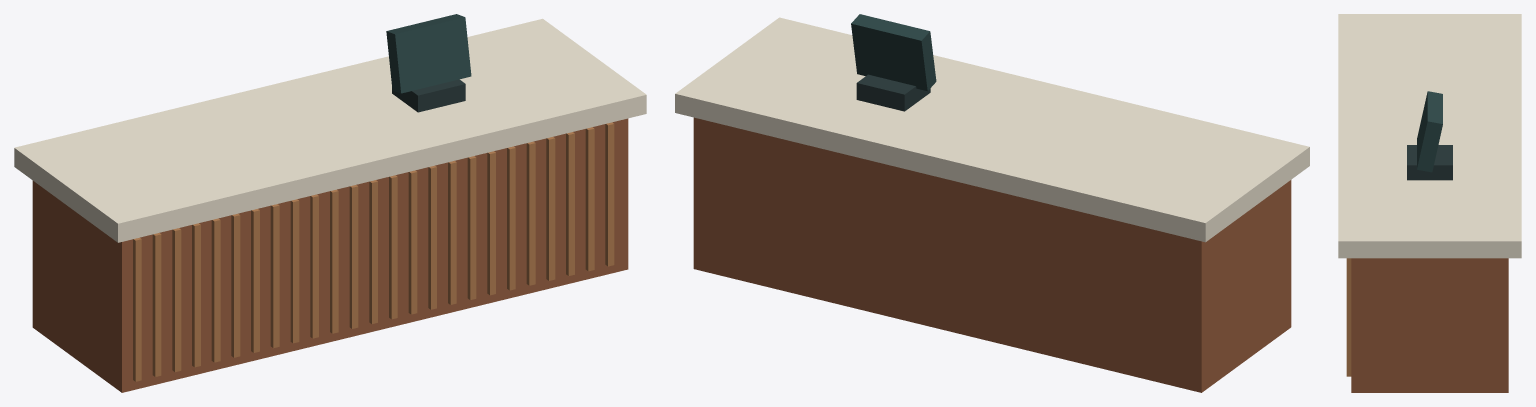
Rendered from checkout-counter.glb.
3 views of the same model, side by side, from view 1: azimuth 30°, elevation 25°; view 2: azimuth 150°, elevation 25°; view 3: azimuth 270°, elevation 25° (orthographic). The views are drawn at different scales.
Visible parts, largest first — view 1: Stone countertop, Oak cabinet, Register, Terminal base, Oak fluting.020, Oak fluting.024, Oak fluting.002, Oak fluting.004, Oak fluting.014, Oak fluting.021, Oak fluting.023, Oak fluting.001 (+17 smaller); view 2: Oak cabinet, Stone countertop, Register, Terminal base; view 3: Stone countertop, Oak cabinet, Register, Terminal base, Oak fluting.024.
Boxes of the visible parts, left/top/right/bottom form: Stone countertop: left=14, top=18, right=646, bottom=242; Oak cabinet: left=32, top=118, right=628, bottom=392; Register: left=386, top=14, right=471, bottom=93; Terminal base: left=392, top=79, right=465, bottom=112; Oak fluting.020: left=526, top=141, right=535, bottom=285; Oak fluting.024: left=605, top=122, right=614, bottom=266; Oak fluting.002: left=172, top=228, right=181, bottom=372; Oak fluting.004: left=211, top=218, right=220, bottom=362; Oak fluting.014: left=408, top=170, right=417, bottom=314; Oak fluting.021: left=546, top=137, right=555, bottom=280; Oak fluting.023: left=585, top=127, right=594, bottom=271; Oak fluting.001: left=152, top=233, right=161, bottom=376; Oak cabinet: left=693, top=117, right=1291, bottom=392; Stone countertop: left=675, top=17, right=1309, bottom=242; Register: left=851, top=14, right=936, bottom=91; Terminal base: left=856, top=74, right=930, bottom=111; Stone countertop: left=1338, top=14, right=1521, bottom=258; Oak cabinet: left=1351, top=258, right=1508, bottom=392; Register: left=1417, top=91, right=1442, bottom=172; Terminal base: left=1407, top=145, right=1452, bottom=180; Oak fluting.024: left=1346, top=258, right=1351, bottom=376.
Size of the model in its own units: 3.76 by 1.7 by 1.28.
